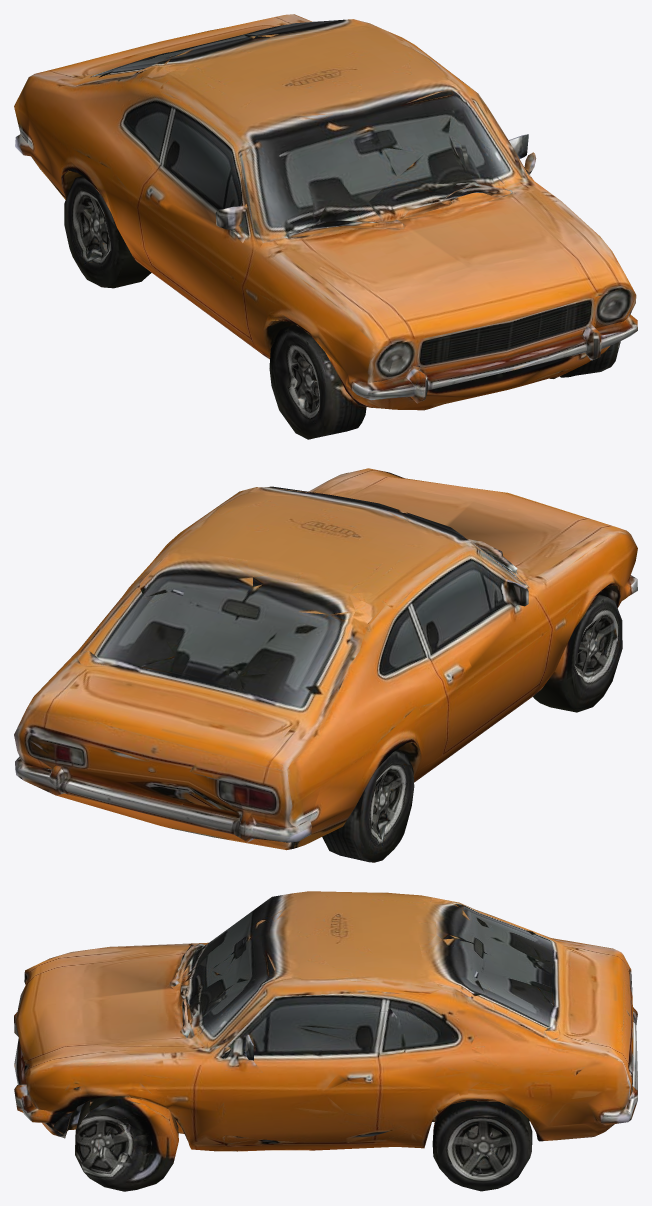
File: datsun240z_72.glb
3 renders of one model, top to bottom at view 1: azimuth 30°, elevation 25°; view 2: azimuth 150°, elevation 25°; view 3: azimuth 270°, elevation 25°, orthographic. The views are drawn at different scales.
Visible parts, largest first — view 1: textured; view 2: textured; view 3: textured.
Boxes of the visible parts, x1=… form: textured: x1=14, y1=14, x2=637, y2=439; textured: x1=14, y1=468, x2=637, y2=862; textured: x1=14, y1=891, x2=637, y2=1191.
Size of the model in its own units: 1 by 0.7165 by 1.99.
Materials: 1 (1 with a texture image).
